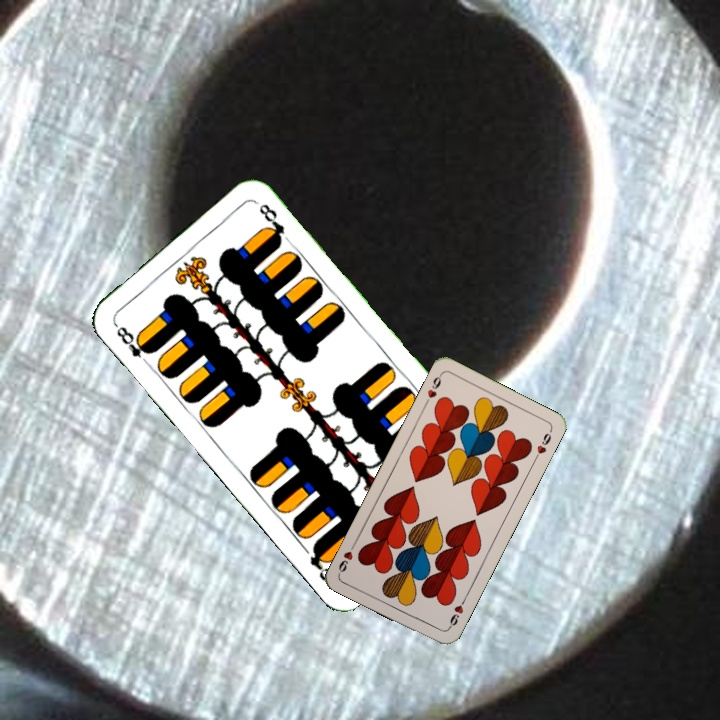E8: (110, 319, 157, 369)
H9: (444, 594, 469, 632), (421, 370, 445, 408)
